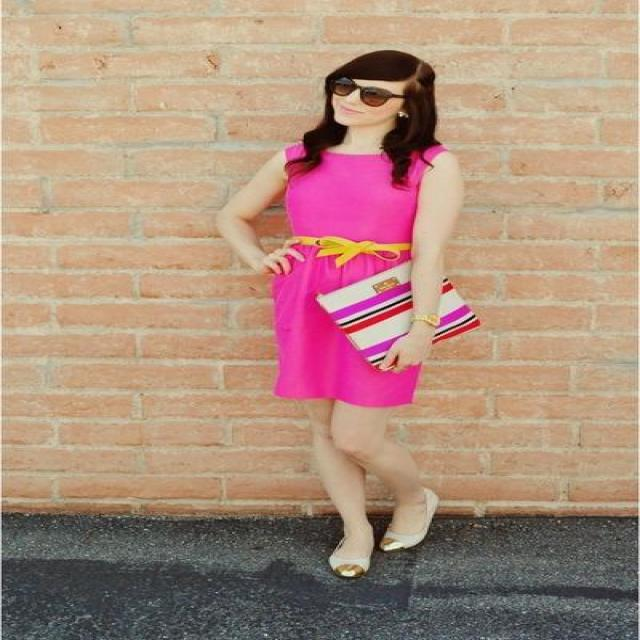bag: (317, 270, 478, 349)
dress: (272, 145, 445, 406)
shoe: (329, 518, 428, 575)
